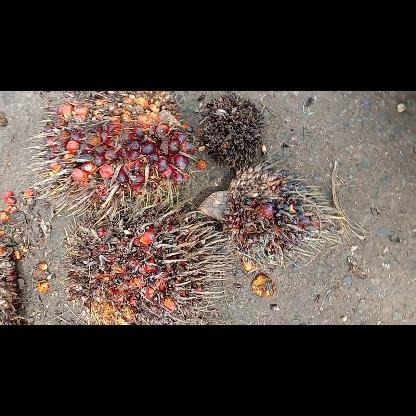TBS abnormal: (194, 161, 344, 271), (195, 94, 267, 170)
TBS masak: (26, 92, 194, 226)
Terlalu masak: (60, 210, 240, 324)
